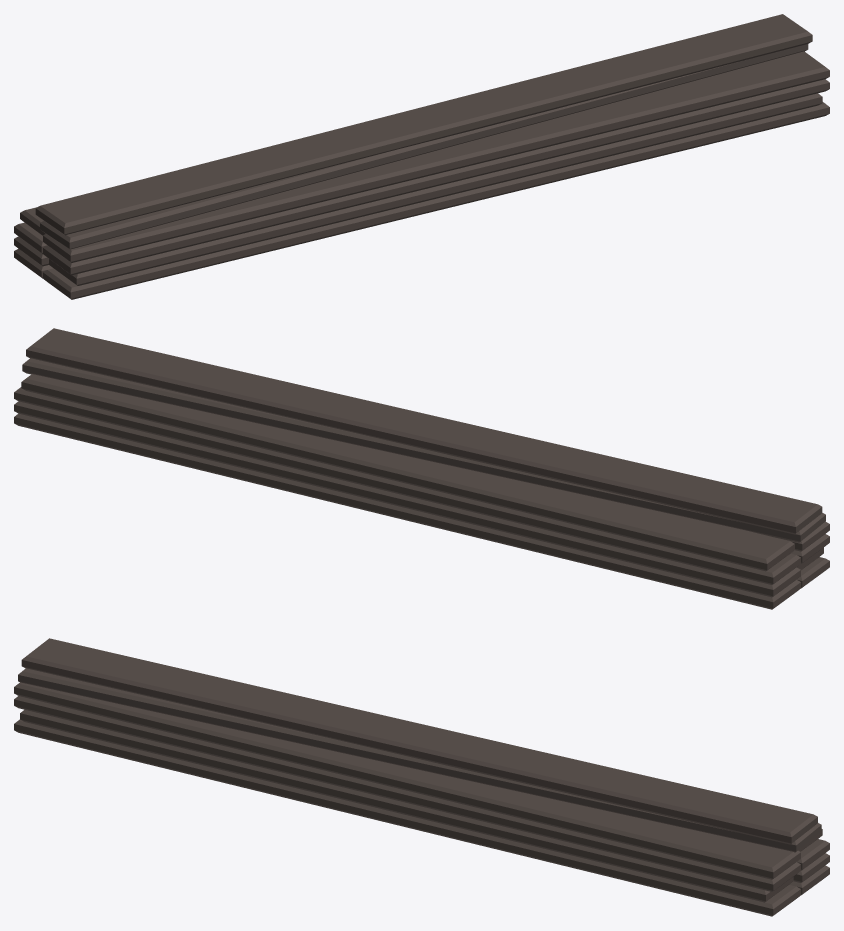
The model's file is props_79.glb.
3 views of the same model, one above another, from view 1: azimuth 30°, elevation 25°; view 2: azimuth 150°, elevation 25°; view 3: azimuth 330°, elevation 25° (orthographic).
Visible parts, largest first — view 1: props_79; view 2: props_79; view 3: props_79.
Part boxes in pixels (<box>): props_79: <box>14,14,829,299</box>; props_79: <box>14,328,829,609</box>; props_79: <box>14,638,829,916</box>.
Size of the model in its own units: 6.67 by 0.5979 by 0.8586.
1 material, 1 textured.
